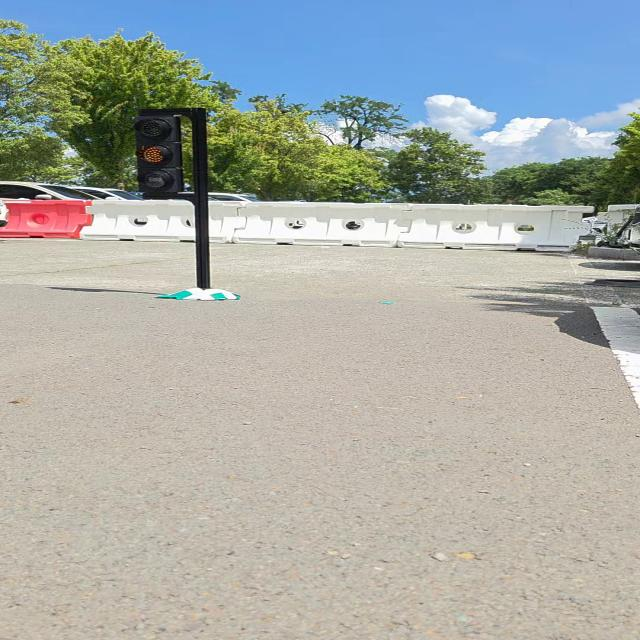yellow: (134, 116, 185, 192)
